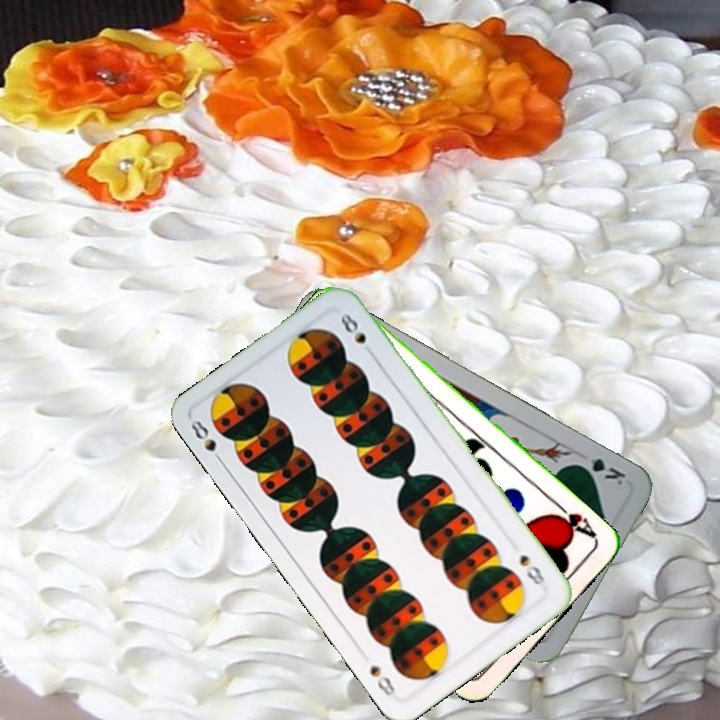GK: (572, 452, 629, 490)
HA: (547, 497, 599, 542)
S8: (186, 415, 227, 468), (515, 550, 548, 590)
